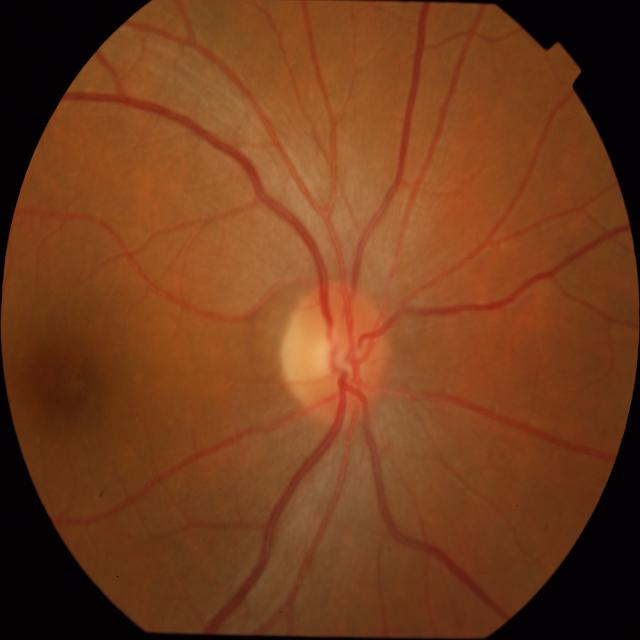OC: (308, 326, 362, 386)
OD: (278, 281, 389, 422)
